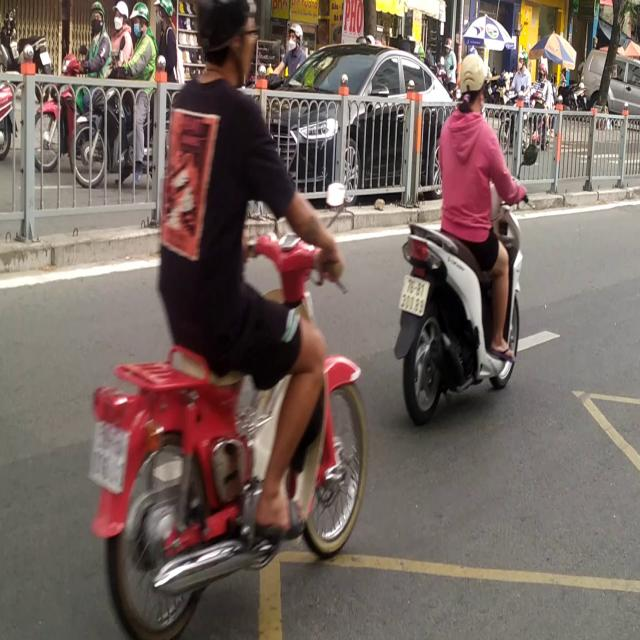bien_trang: (396, 271, 428, 316)
